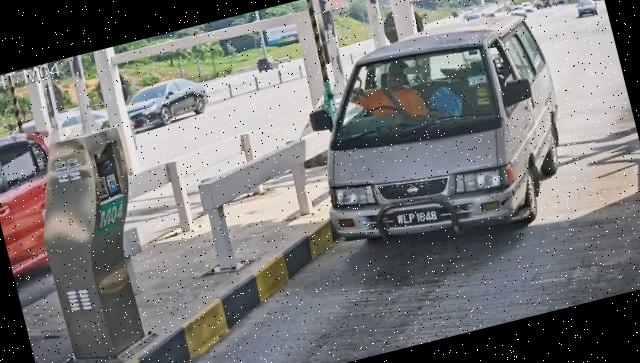License_Plate: (392, 201, 446, 237)
van: (294, 4, 586, 269)
